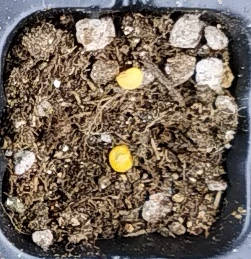chilli seed: (107, 144, 134, 172), (115, 67, 142, 89)
